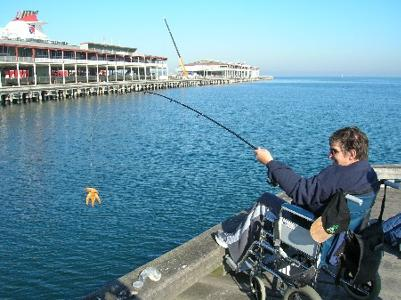person: (216, 126, 381, 249)
